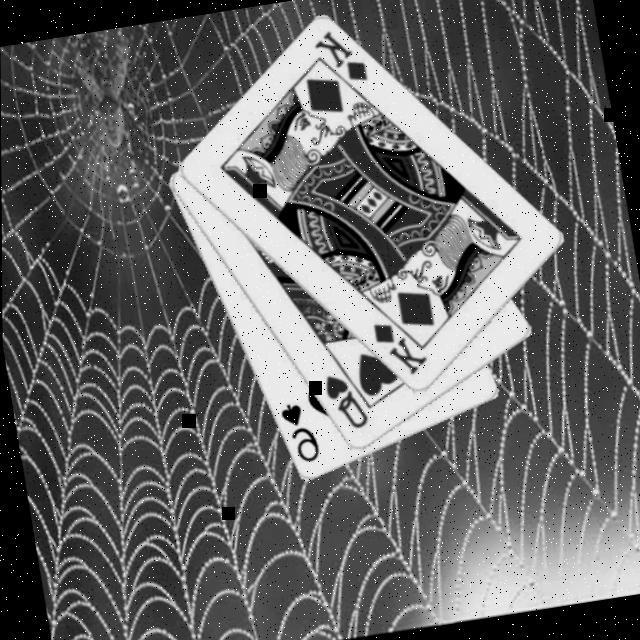9S: (274, 398, 322, 471)
KD: (367, 316, 431, 386), (308, 24, 371, 94)
QH: (319, 369, 371, 439)
